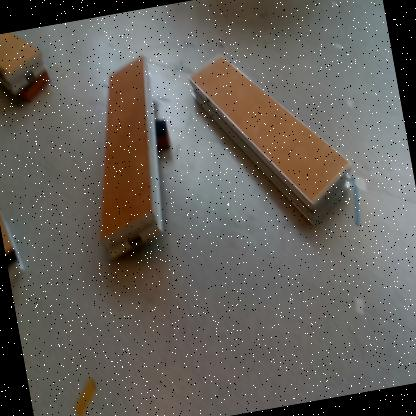Stairs: (188, 53, 351, 229), (101, 55, 165, 262), (1, 32, 49, 95), (1, 215, 18, 273)
